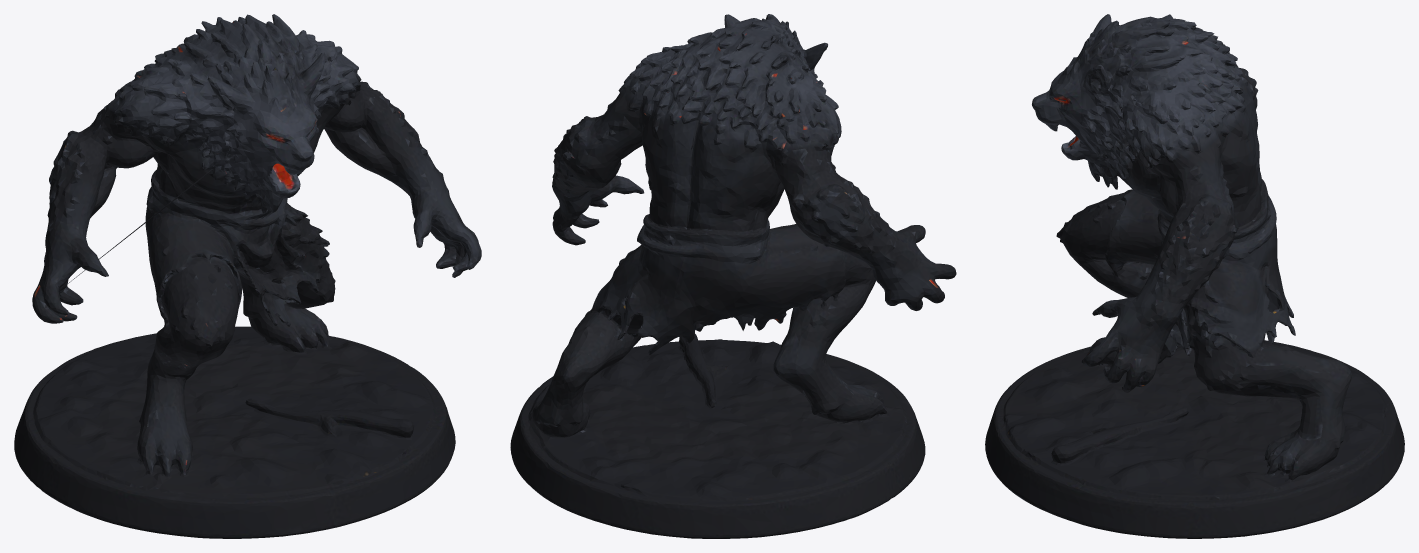
File: lobisomem_alfa.glb
The picture shows the model from 3 angles, left to right: view 1: azimuth 30°, elevation 25°; view 2: azimuth 150°, elevation 25°; view 3: azimuth 270°, elevation 25°; orthographic projection. The views are drawn at different scales.
Visible parts, largest first — view 1: tmpxt1qaxgm.ply; view 2: tmpxt1qaxgm.ply; view 3: tmpxt1qaxgm.ply.
Boxes of the visible parts, left/top/right/bottom form: tmpxt1qaxgm.ply: left=14, top=14, right=481, bottom=538; tmpxt1qaxgm.ply: left=510, top=14, right=956, bottom=538; tmpxt1qaxgm.ply: left=985, top=14, right=1404, bottom=538.
Bounding box in the file's own units: 1.95 × 1.96 × 1.74.
1 material, 1 textured.
